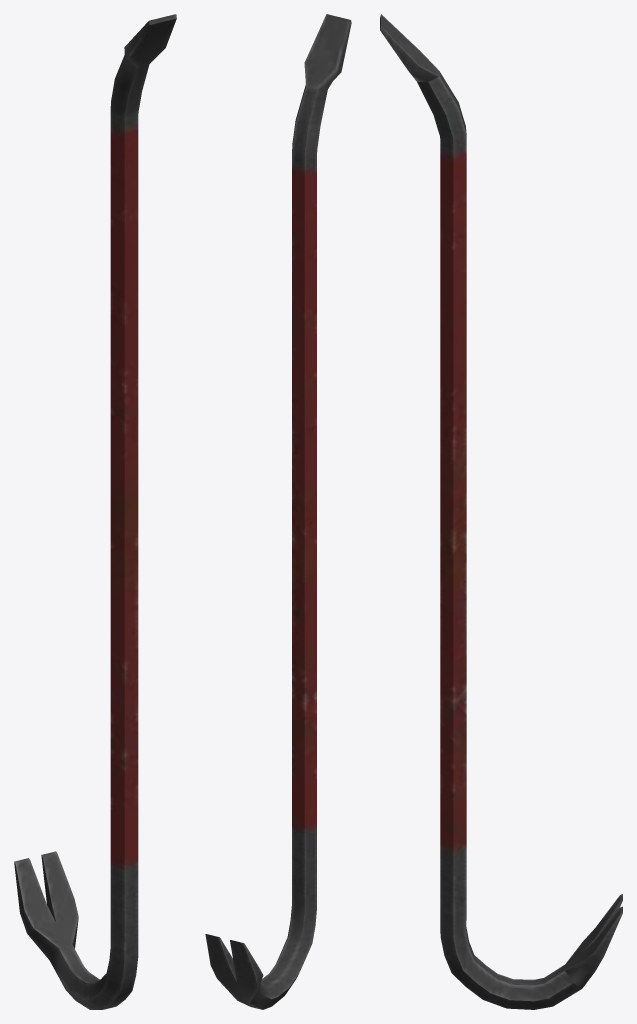
File: tool-crowbar.glb
3 views of the same model, side by side, from view 1: azimuth 30°, elevation 25°; view 2: azimuth 150°, elevation 25°; view 3: azimuth 270°, elevation 25° (orthographic). The views are drawn at different scales.
Parts seen in each view (by area): view 1: Crowbar; view 2: Crowbar; view 3: Crowbar.
Part boxes in pixels (left/top/right/bottom): Crowbar: left=14, top=14, right=176, bottom=1009; Crowbar: left=205, top=14, right=351, bottom=1009; Crowbar: left=380, top=14, right=622, bottom=1009.
Bounding box in the file's own units: 0.0305 × 0.6067 × 0.1354.
1 material, 1 textured.
